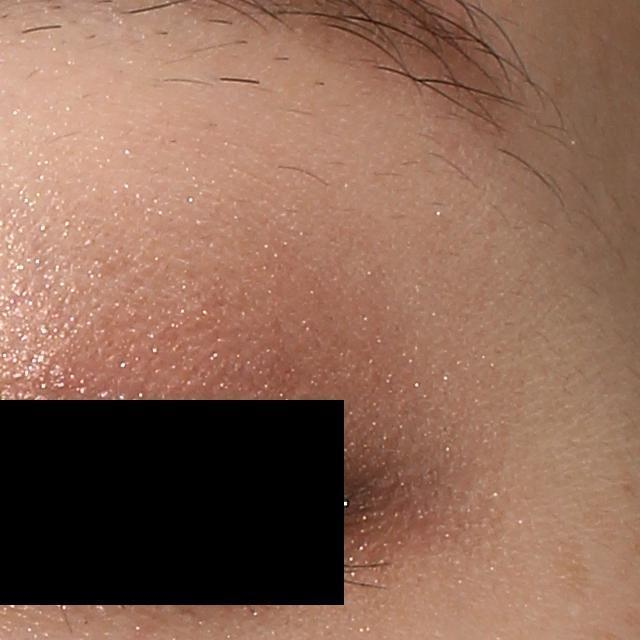melasma: (544, 535, 603, 611)
